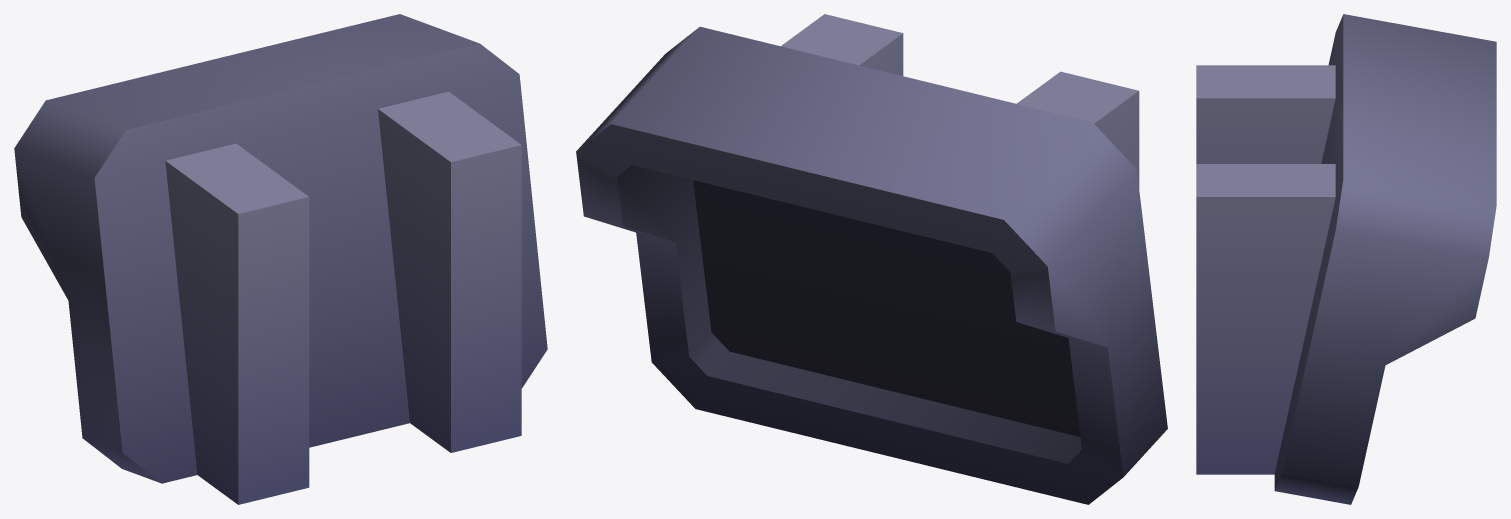
The model's file is screen-hanging-wide.glb.
3 renders of one model, left to right at view 1: azimuth 30°, elevation 25°; view 2: azimuth 150°, elevation 25°; view 3: azimuth 270°, elevation 25°, orthographic. The views are drawn at different scales.
Parts seen in each view (by area): view 1: screen-hanging-wide; view 2: screen-hanging-wide; view 3: screen-hanging-wide.
Boxes of the visible parts, box(x1,y1,x2,y2) form: screen-hanging-wide: box(14, 14, 547, 504); screen-hanging-wide: box(576, 14, 1167, 504); screen-hanging-wide: box(1196, 14, 1496, 504).
Size of the model in its own units: 0.9 by 0.6913 by 0.5766.
